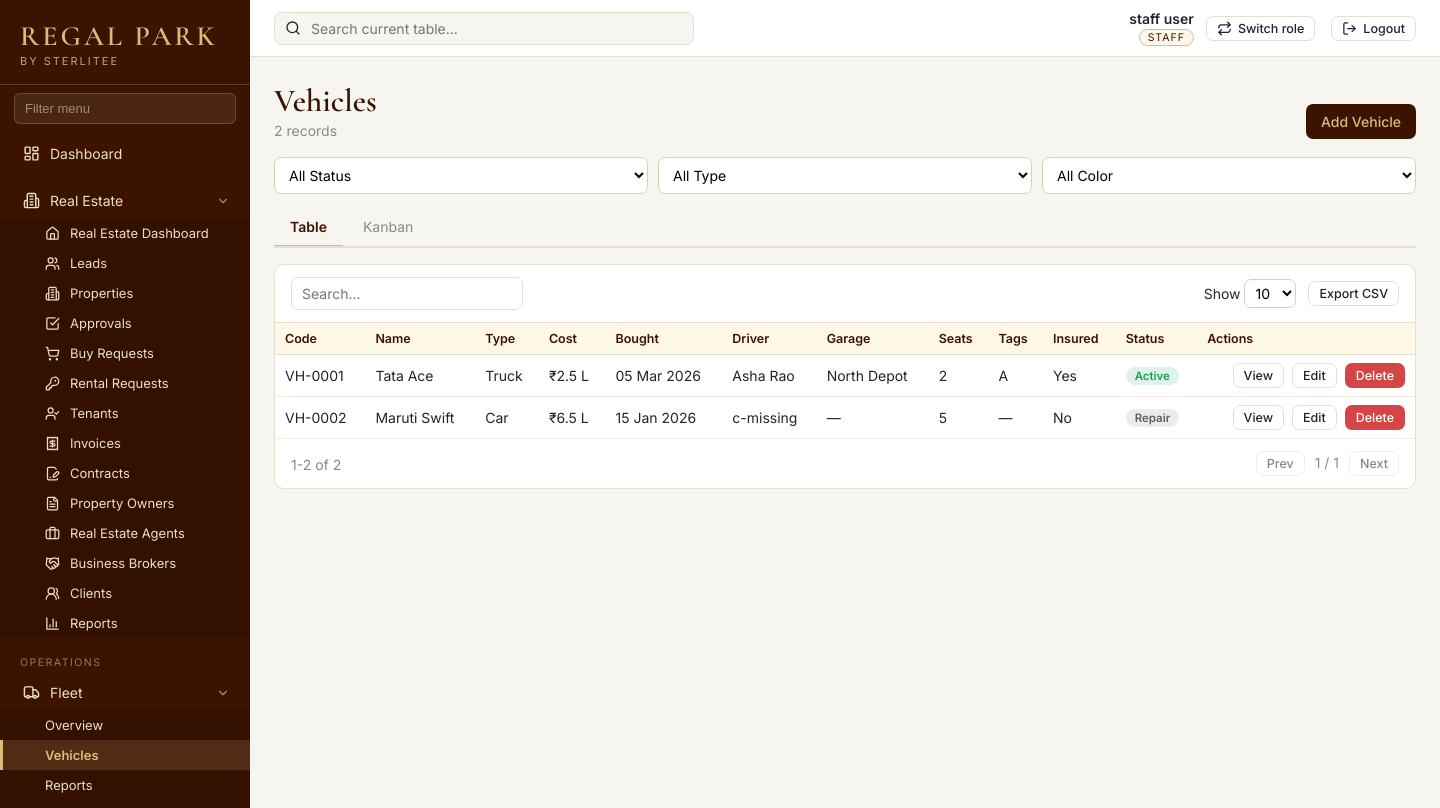
ModuleTable › add with required field empty -> validation error, no POST
The width and height of the screenshot is (1440, 808).
Expected: the button "Logout" is shown, x1=1331 y1=16 x2=1416 y2=40
Expected: the text "Asha Rao" is shown, x1=722 y1=354 x2=817 y2=396
Step 1. Click the button "Add Vehicle" → (1361,122), box x1=1306 y1=104 x2=1416 y2=139
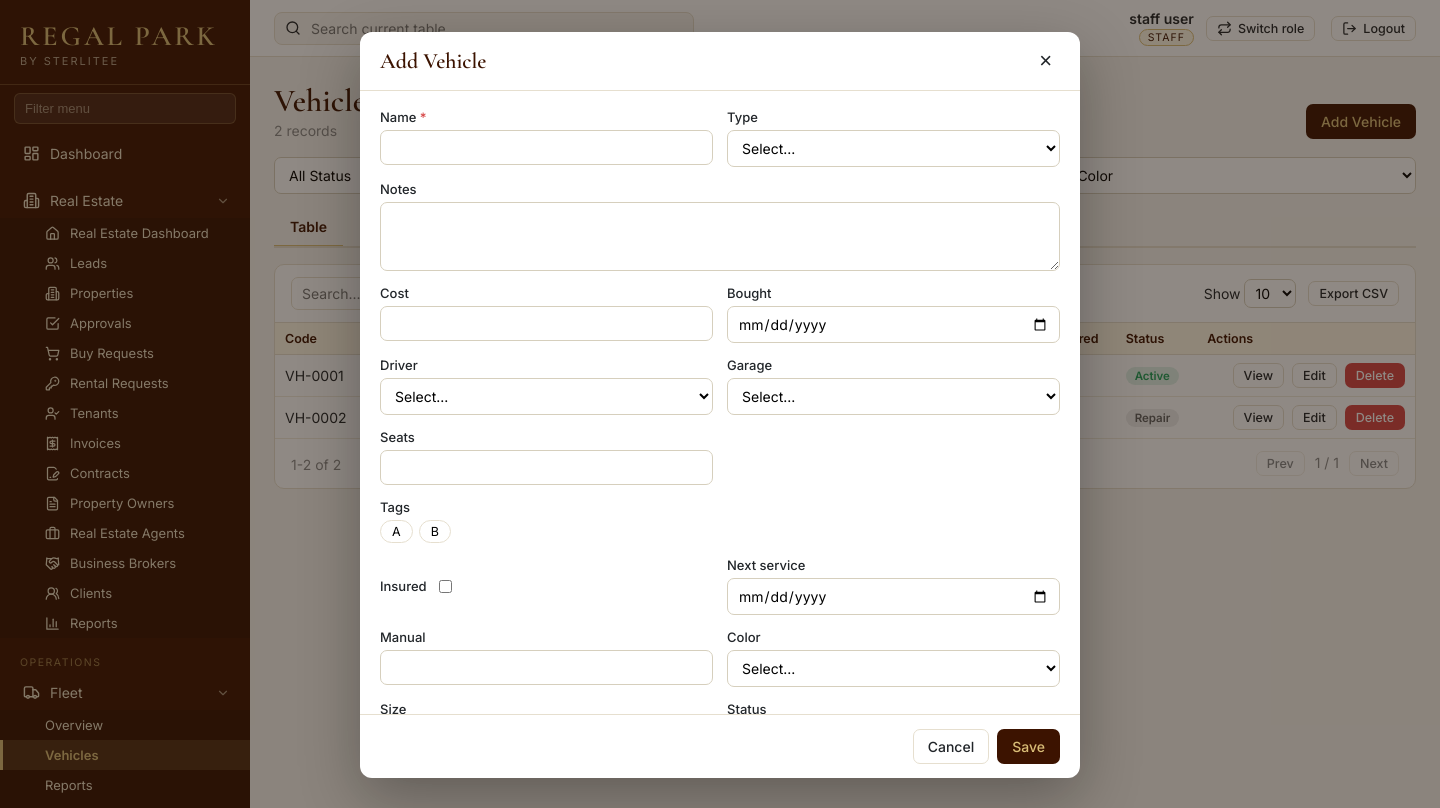
Step 2. Click the button "Save" → (1029,746), box x1=997 y1=729 x2=1060 y2=764
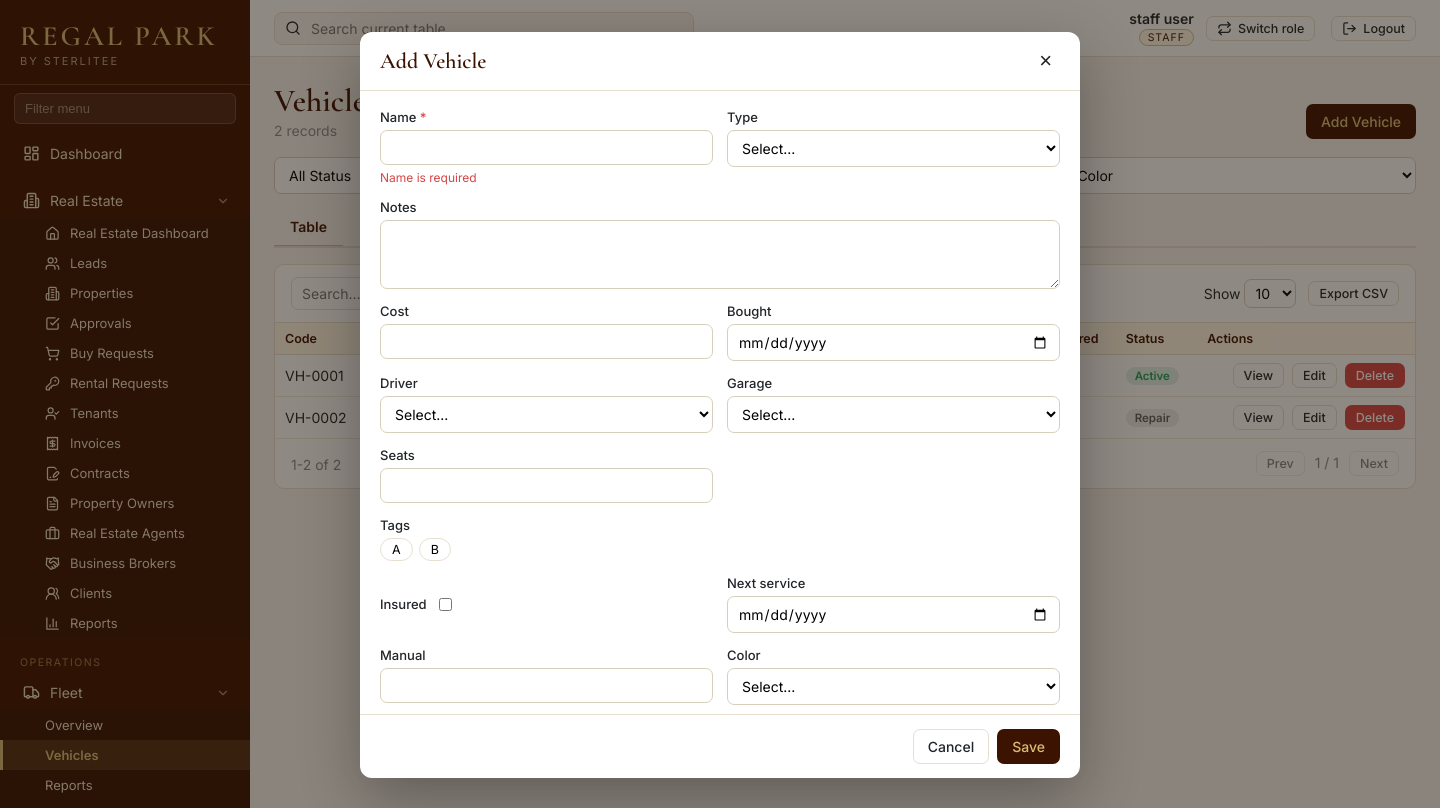
Now the text "Name is required" is shown, box x1=380 y1=170 x2=477 y2=185
